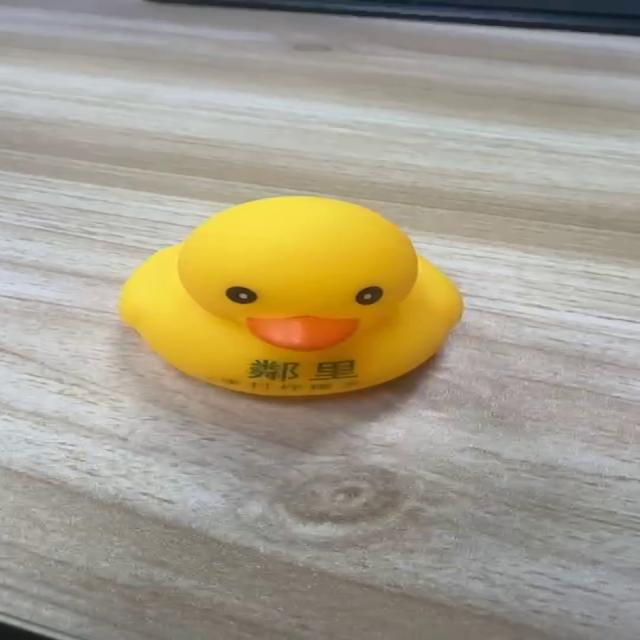yellow_duck: (116, 194, 465, 398)
